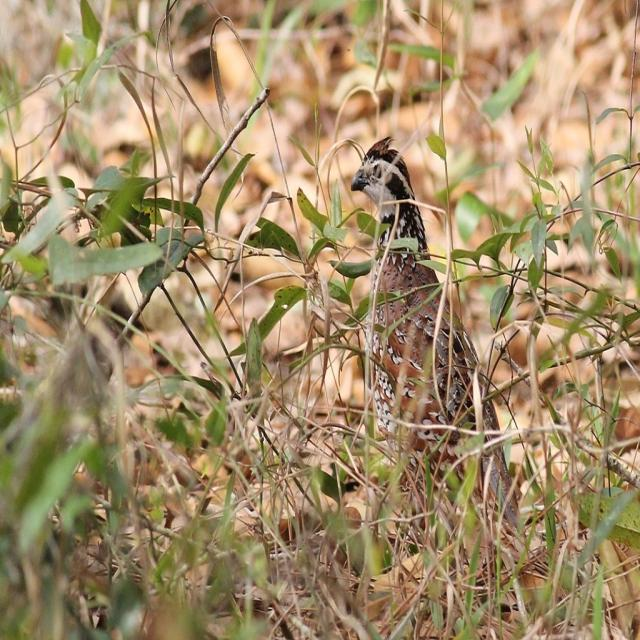bird: (346, 139, 526, 542)
